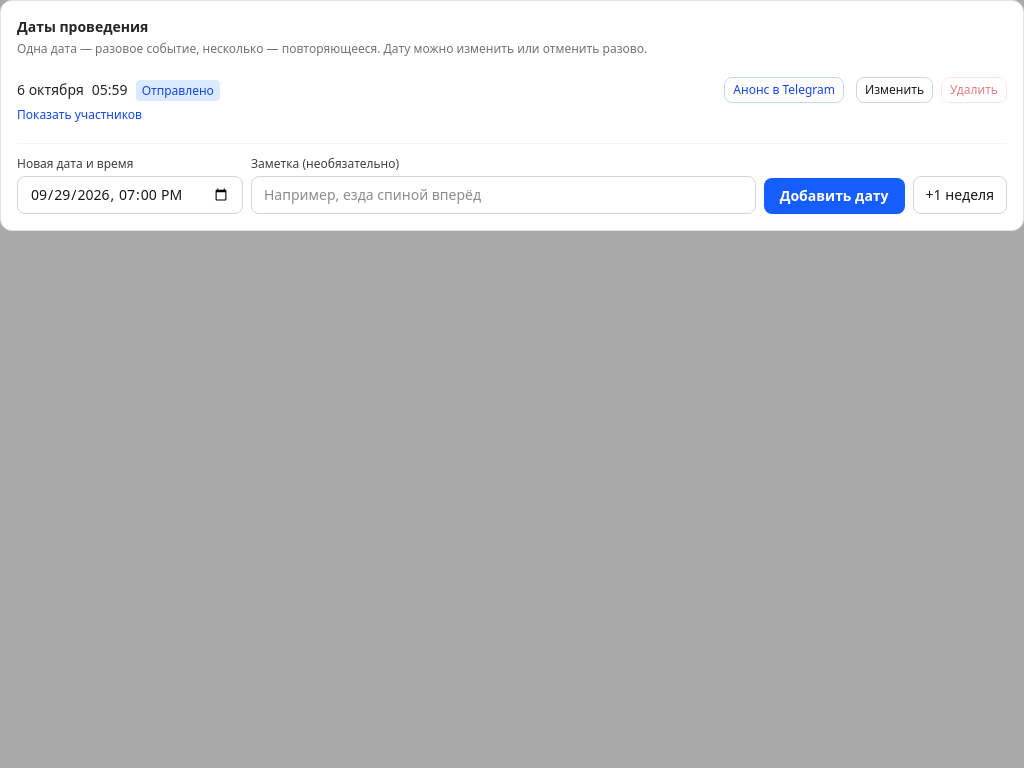
Test: EventDatesManager › для анонсированной даты кнопка «Анонс в Telegram» открывает модалку управления
The image size is (1024, 768).
Click the button "Анонс в Telegram": (784, 90) [724,77,844,103]
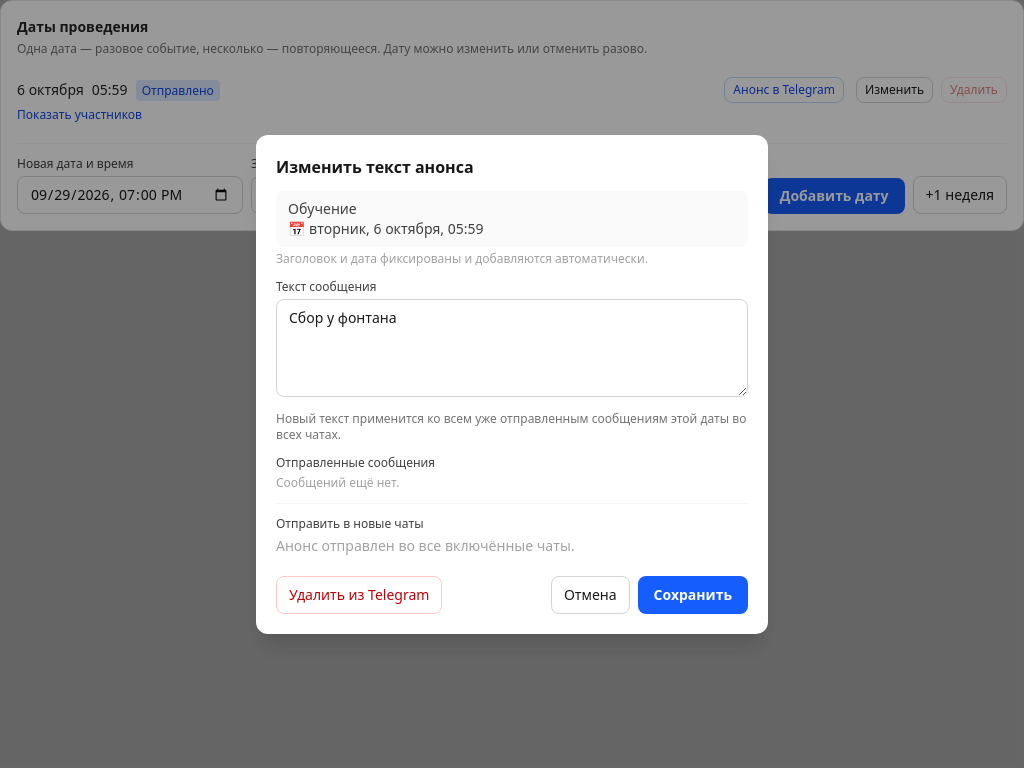
expect the heading "Изменить текст анонса" is shown: met, box [276,156,474,178]
expect the text box showing "Сбор у фонтана" is shown: met, box [276,298,748,396]
